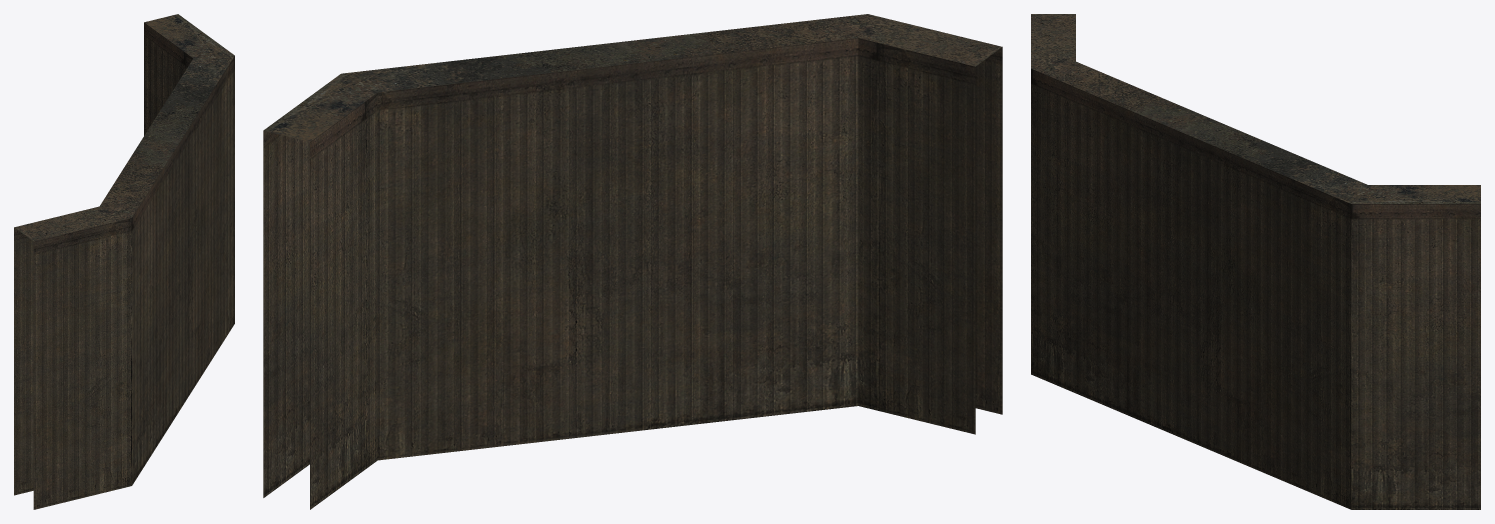
The model's file is wall_rx_1_m1a_1.obj.
3 views of the same model, side by side, from view 1: azimuth 30°, elevation 25°; view 2: azimuth 150°, elevation 25°; view 3: azimuth 270°, elevation 25° (orthographic). The views are drawn at different scales.
Visible parts, largest first — view 1: wall_rx_1_m1a_1; view 2: wall_rx_1_m1a_1; view 3: wall_rx_1_m1a_1.
Boxes of the visible parts, bbox=[...] form: wall_rx_1_m1a_1: bbox=[14, 14, 234, 509]; wall_rx_1_m1a_1: bbox=[263, 14, 1002, 509]; wall_rx_1_m1a_1: bbox=[1031, 14, 1480, 509].
Size of the model in its own units: 4 by 3 by 4.
